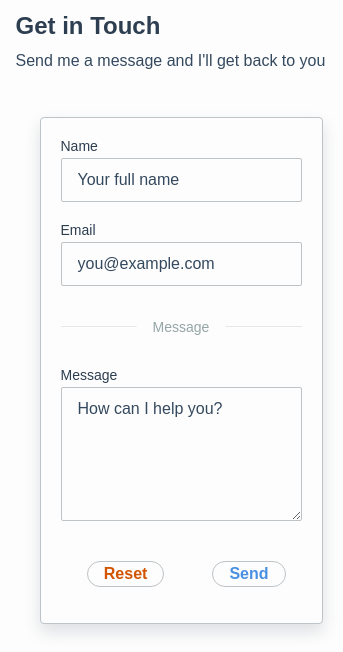
Test: ContactPage › resets form fields when reset button is clicked
Fill in the form
Type "John Doe" into the field labelled "Name" at (181, 180), box [60, 158, 302, 202]
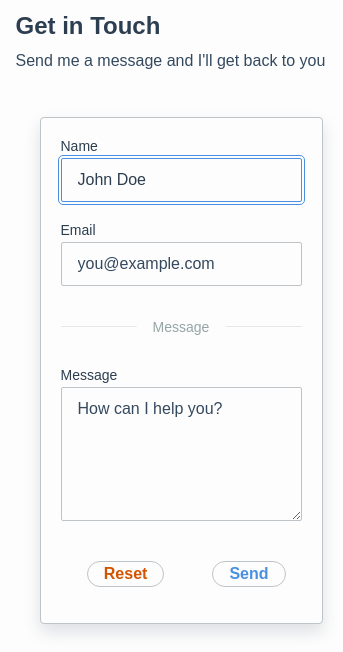
Type "john@example.com" into the field labelled "Email" at (181, 264), box [60, 242, 302, 286]
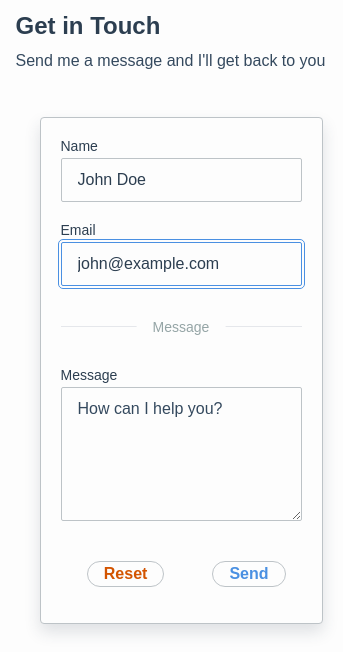
Type "Hello, this is a test message." into the text box labelled "Message" at (181, 454), box [60, 387, 302, 521]
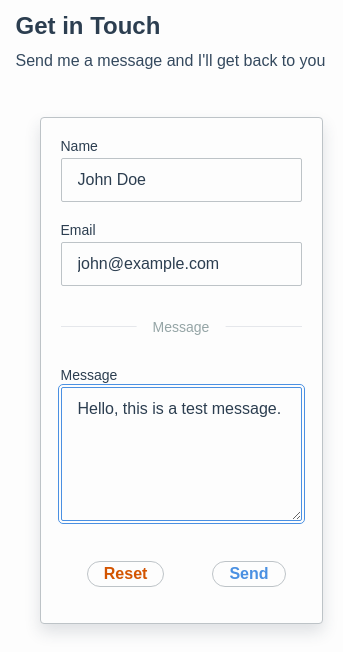
Click reset button
Click the button "Reset" at (126, 574), box [87, 561, 164, 587]
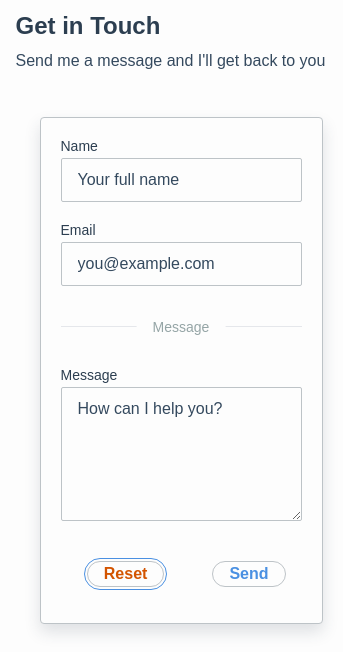
Check: the field labelled "Name" is empty, box [60, 158, 302, 202]
Check: the field labelled "Email" is empty, box [60, 242, 302, 286]
Check: the text box labelled "Message" is empty, box [60, 387, 302, 521]
